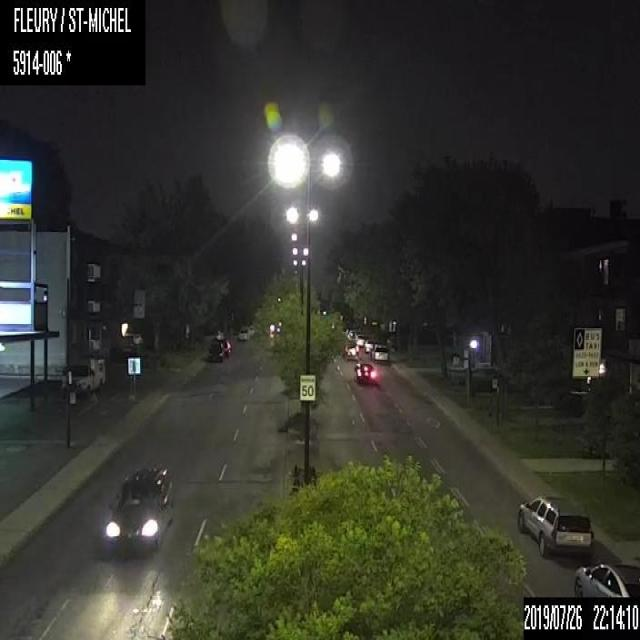vehicle: (100, 465, 175, 555), (516, 492, 594, 557), (572, 561, 639, 596), (62, 358, 106, 392), (354, 361, 377, 383), (206, 338, 222, 362), (370, 344, 389, 361), (341, 344, 362, 359), (217, 338, 230, 356), (363, 338, 376, 351), (352, 331, 364, 345), (238, 329, 247, 339)
